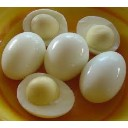begg: (80, 51, 127, 102), (20, 76, 75, 118), (2, 32, 44, 73), (78, 17, 120, 47)
